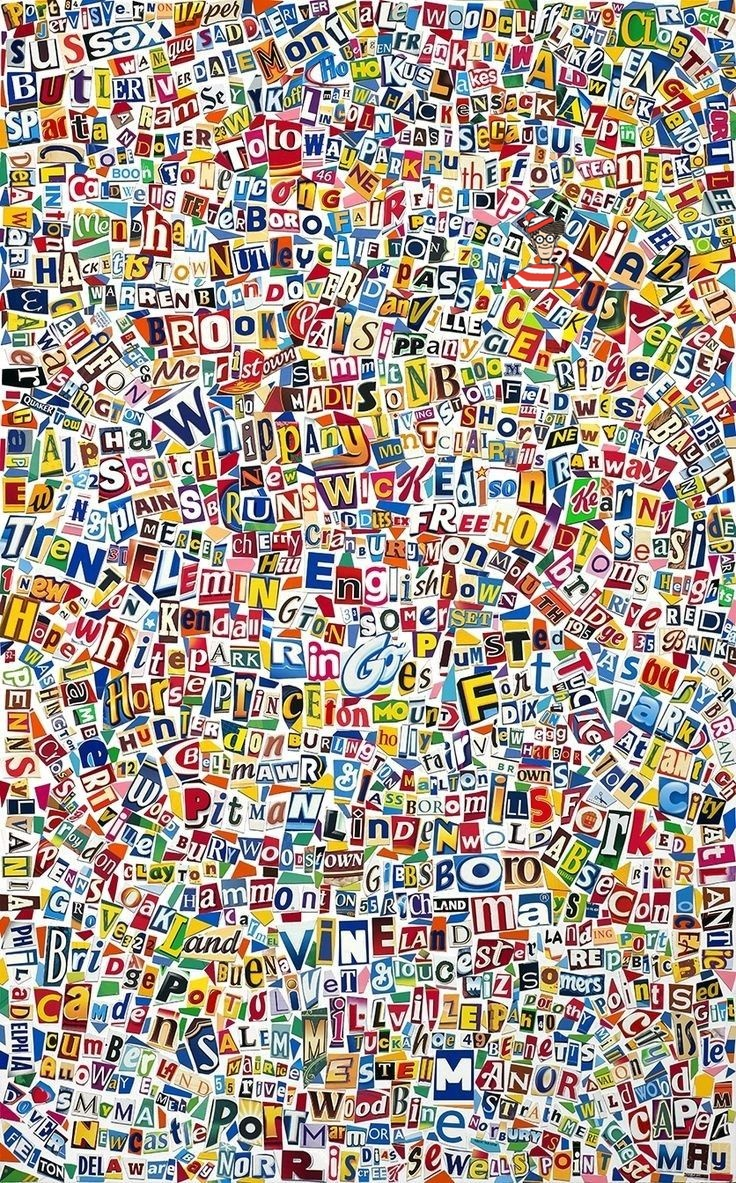waldo: (502, 210, 581, 289)
